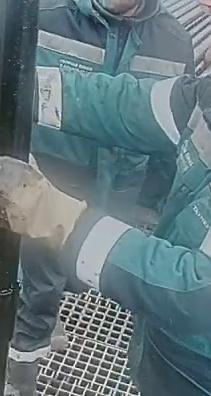gloves: (0, 153, 99, 264)
vest: (32, 1, 195, 207)
